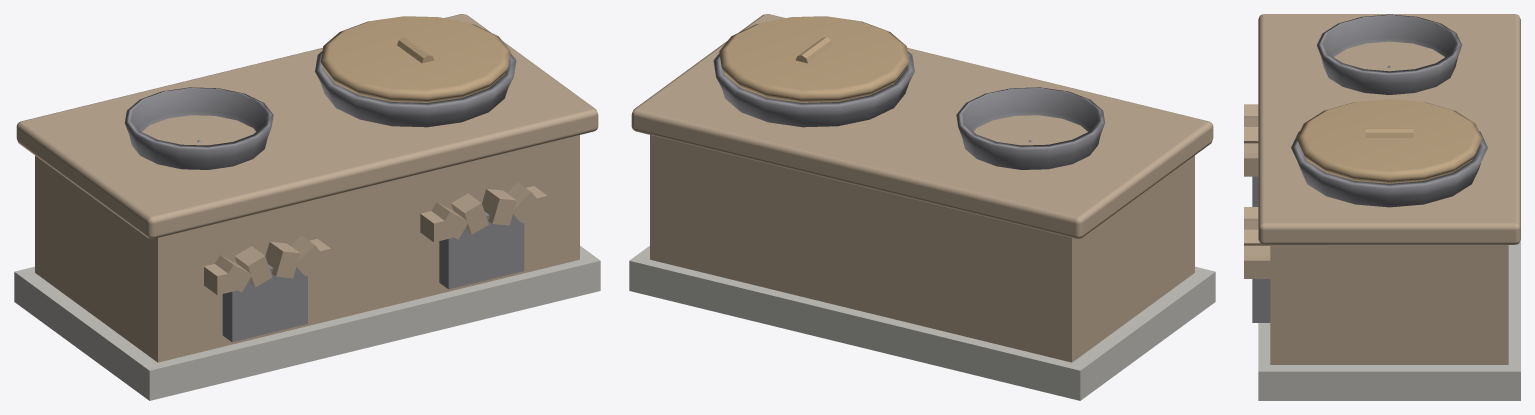
The model's file is korean-hanok-village-and-street-kitchen-hearth-block-9012cad3__38058.glb.
The picture shows the model from 3 angles, left to right: view 1: azimuth 30°, elevation 25°; view 2: azimuth 150°, elevation 25°; view 3: azimuth 270°, elevation 25°; orthographic projection. The views are drawn at different scales.
Parts seen in each view (by area): view 1: kitchen-hearth-block, cauldron-lid; view 2: kitchen-hearth-block, cauldron-lid; view 3: kitchen-hearth-block, cauldron-lid.
Boxes of the visible parts, x1,y1,x2,y2 form: kitchen-hearth-block: (14,14,600,400); cauldron-lid: (320,16,510,102); kitchen-hearth-block: (629,14,1215,400); cauldron-lid: (719,16,909,102); kitchen-hearth-block: (1244,14,1520,400); cauldron-lid: (1296,99,1482,183).
Size of the model in its own units: 2.5 by 1.18 by 1.37.
